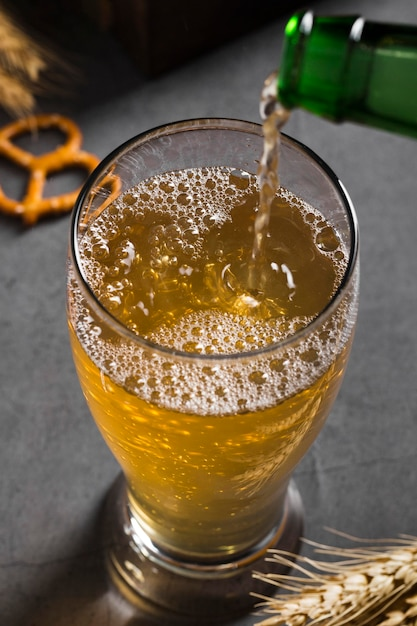alcohol: (69, 106, 367, 610), (284, 8, 417, 139)
